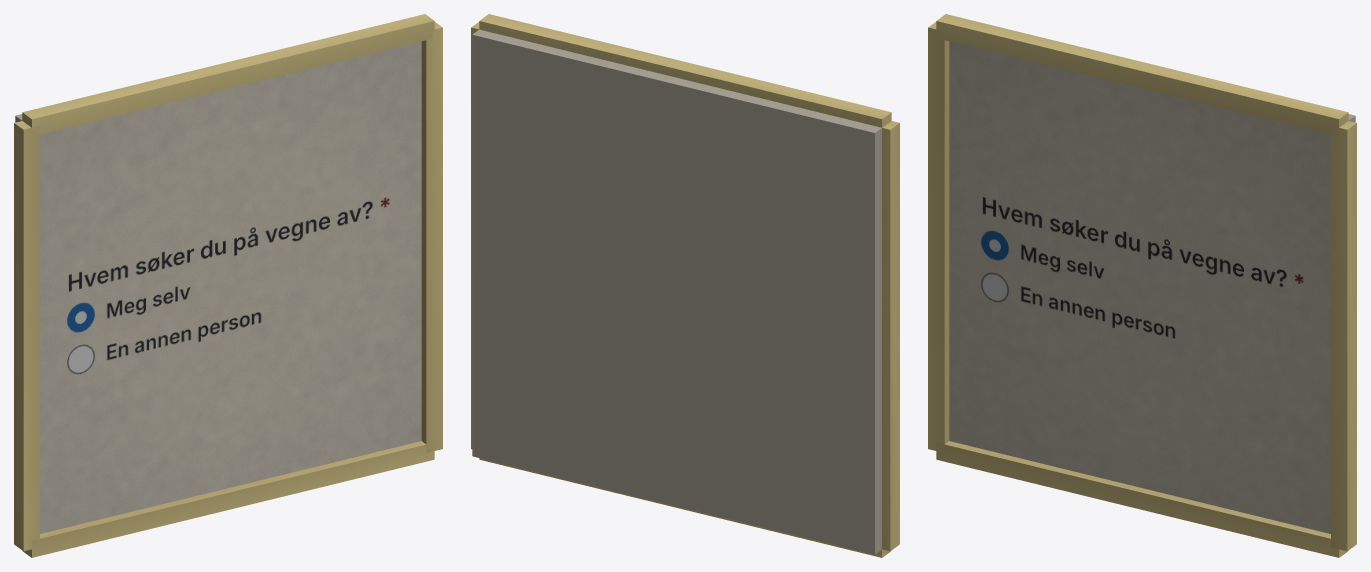
Rendered from gallery_fieldset.glb.
The picture shows the model from 3 angles, left to right: view 1: azimuth 30°, elevation 25°; view 2: azimuth 150°, elevation 25°; view 3: azimuth 330°, elevation 25°; orthographic projection.
Visible parts, largest first — view 1: plate; view 2: plate; view 3: plate.
Part boxes in pixels (bbox=[...]): plate: bbox=[14, 14, 442, 557]; plate: bbox=[471, 14, 899, 557]; plate: bbox=[928, 14, 1356, 557].
Size of the model in its own units: 0.51 by 0.51 by 0.035.
Materials: 2 (1 with a texture image).
